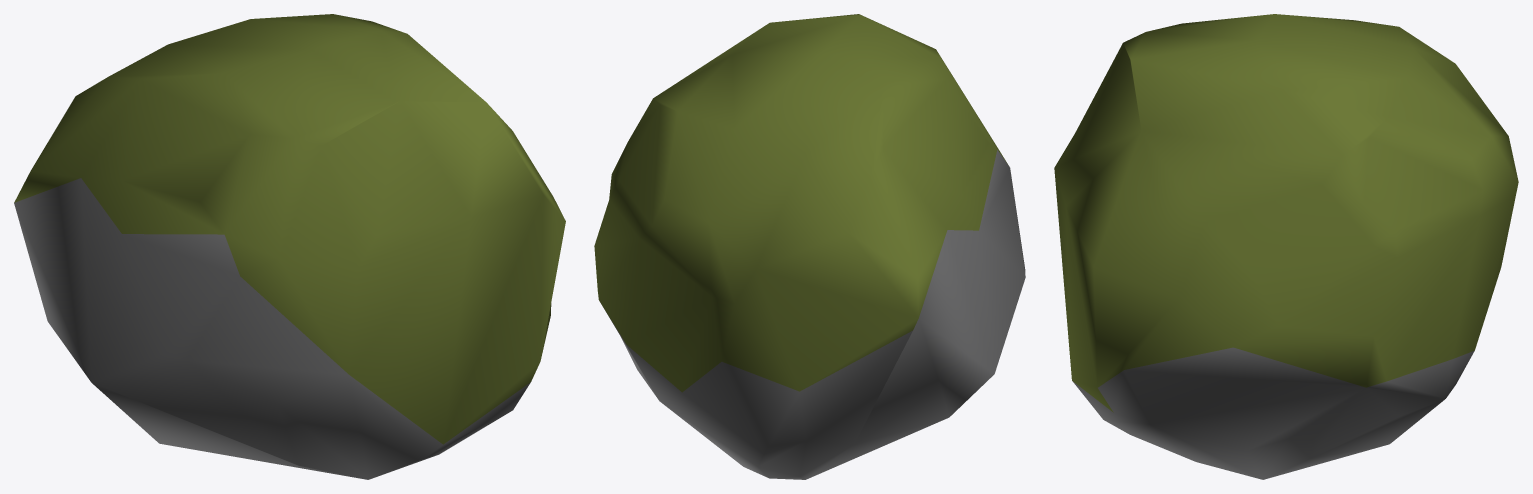
Rendered from Rock_1_mossy.glb.
3 views of the same model, side by side, from view 1: azimuth 30°, elevation 25°; view 2: azimuth 150°, elevation 25°; view 3: azimuth 270°, elevation 25° (orthographic). The views are drawn at different scales.
Visible parts, largest first — view 1: Rock_1_mossy; view 2: Rock_1_mossy; view 3: Rock_1_mossy.
Part boxes in pixels (x1=…): Rock_1_mossy: x1=14, y1=14, x2=565, y2=479; Rock_1_mossy: x1=594, y1=14, x2=1025, y2=479; Rock_1_mossy: x1=1054, y1=14, x2=1518, y2=479.
Bounding box in the file's own units: 0.3479 × 0.3273 × 0.3434.
1 material, 1 textured.
